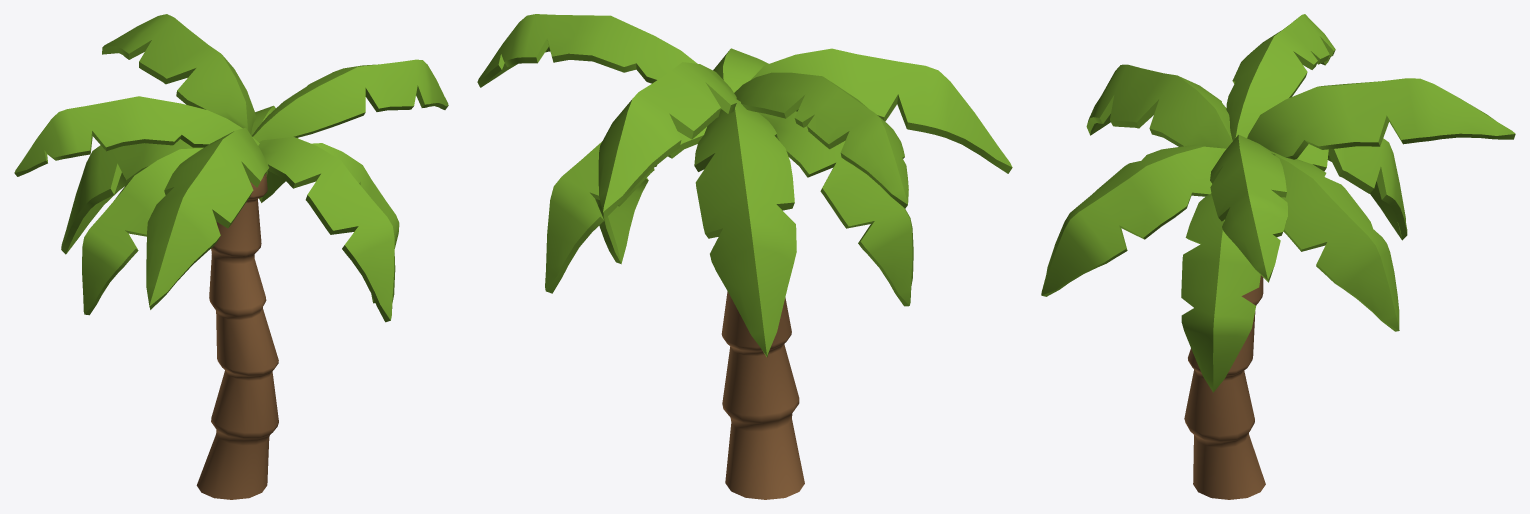
File: palm.glb
The picture shows the model from 3 angles, left to right: view 1: azimuth 30°, elevation 25°; view 2: azimuth 150°, elevation 25°; view 3: azimuth 270°, elevation 25°; orthographic projection. The views are drawn at different scales.
Parts seen in each view (by area): view 1: Environment_PalmTree_3; view 2: Environment_PalmTree_3; view 3: Environment_PalmTree_3.
Boxes of the visible parts, x1=… form: Environment_PalmTree_3: x1=14, y1=14, x2=448, y2=499; Environment_PalmTree_3: x1=477, y1=14, x2=1012, y2=499; Environment_PalmTree_3: x1=1041, y1=14, x2=1515, y2=499.
Bounding box in the file's own units: 2.86 × 2.69 × 2.75.
1 material, 1 textured.
